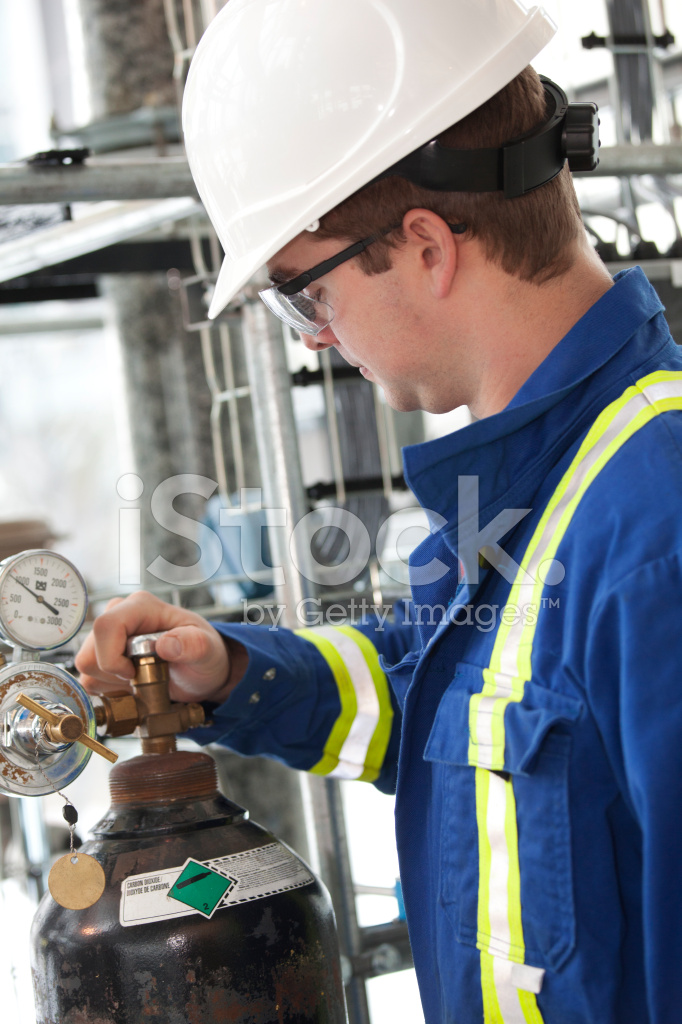Person_wearing_helmet: (190, 1, 604, 340)
